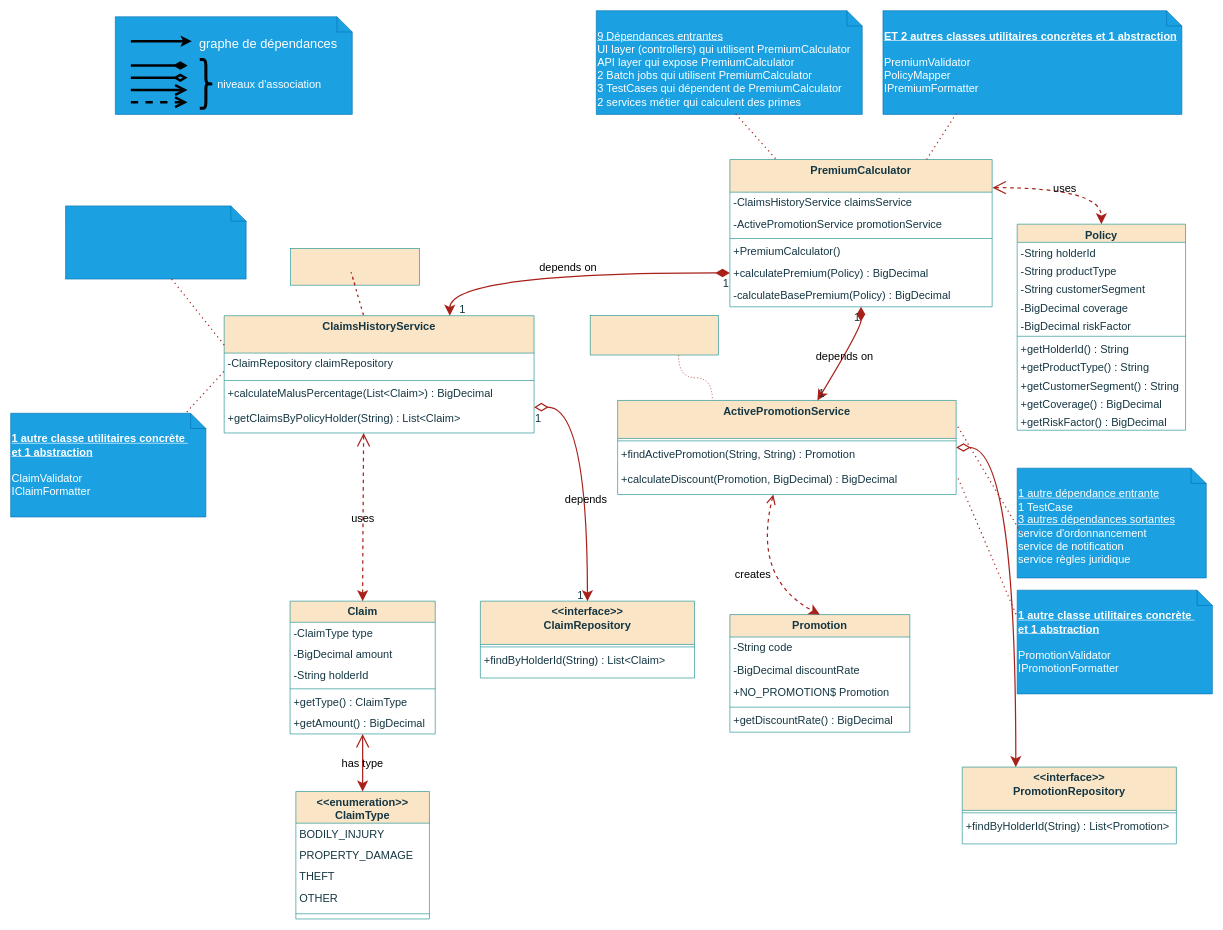
This 1223x930 diagram has some shape labels left out. Here are the shapes that lost their labels. From the top down, the centre of each, then its label:
At point (155, 242): "2 autres dépendances entrantes 1 TestCase 1 Service de Report".
At point (354, 266): "Change tous les 3 mois (nouvelles lois, règles)".
At point (654, 335): "Change chaque semaine (promos, campagnes)".
